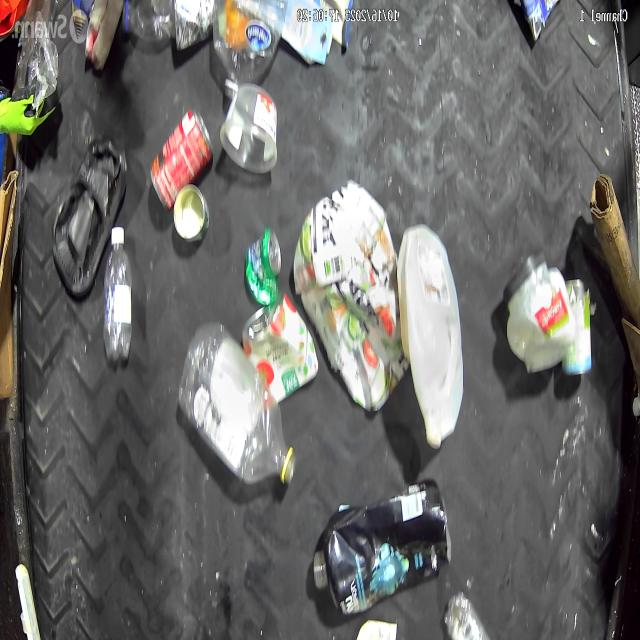can: (150, 106, 214, 210), (248, 228, 280, 304), (172, 185, 210, 243)
milk_jug: (400, 225, 460, 440)
non_white_jug: (312, 475, 454, 610)
plastic_bottle: (180, 315, 299, 497), (212, 0, 287, 99), (98, 224, 136, 358), (124, 0, 215, 51)
